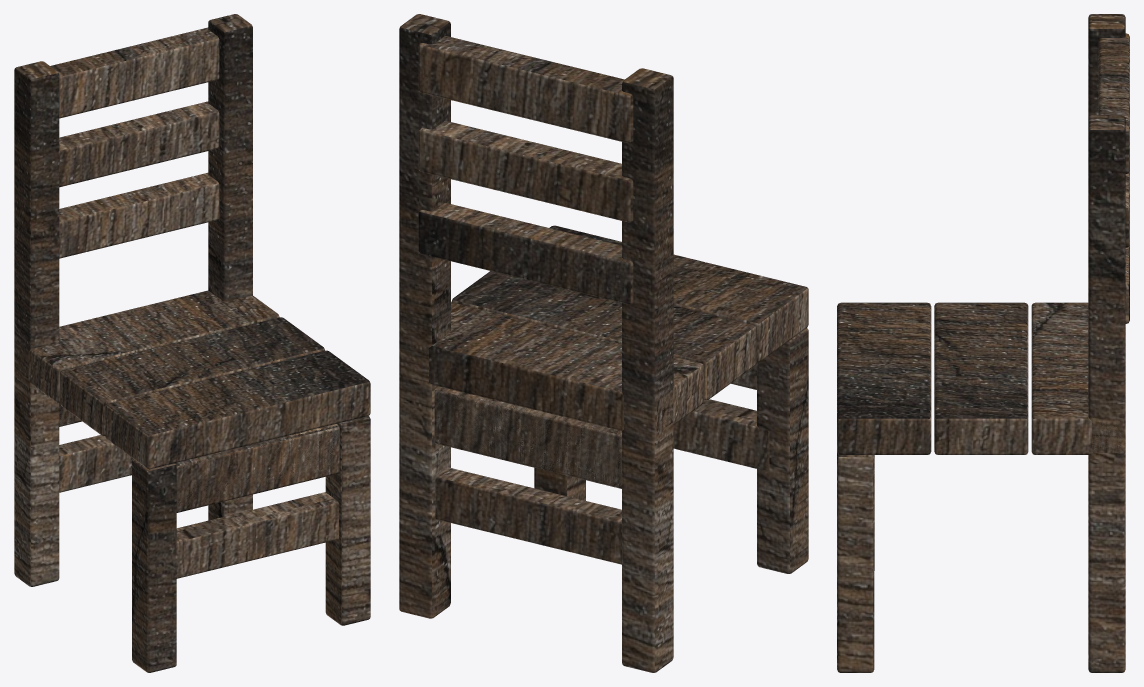
File: chair-v03.glb
3 views of the same model, side by side, from view 1: azimuth 30°, elevation 25°; view 2: azimuth 150°, elevation 25°; view 3: azimuth 270°, elevation 25° (orthographic). The views are drawn at different scales.
Parts seen in each view (by area): view 1: chair-v03; view 2: chair-v03; view 3: chair-v03.
Boxes of the visible parts, x1,y1,x2,y2 form: chair-v03: [14, 14, 370, 672]; chair-v03: [399, 14, 808, 672]; chair-v03: [837, 14, 1129, 672].
Bounding box in the file's own units: 0.46 × 1 × 0.487.
Materials: 3 (3 with a texture image).
